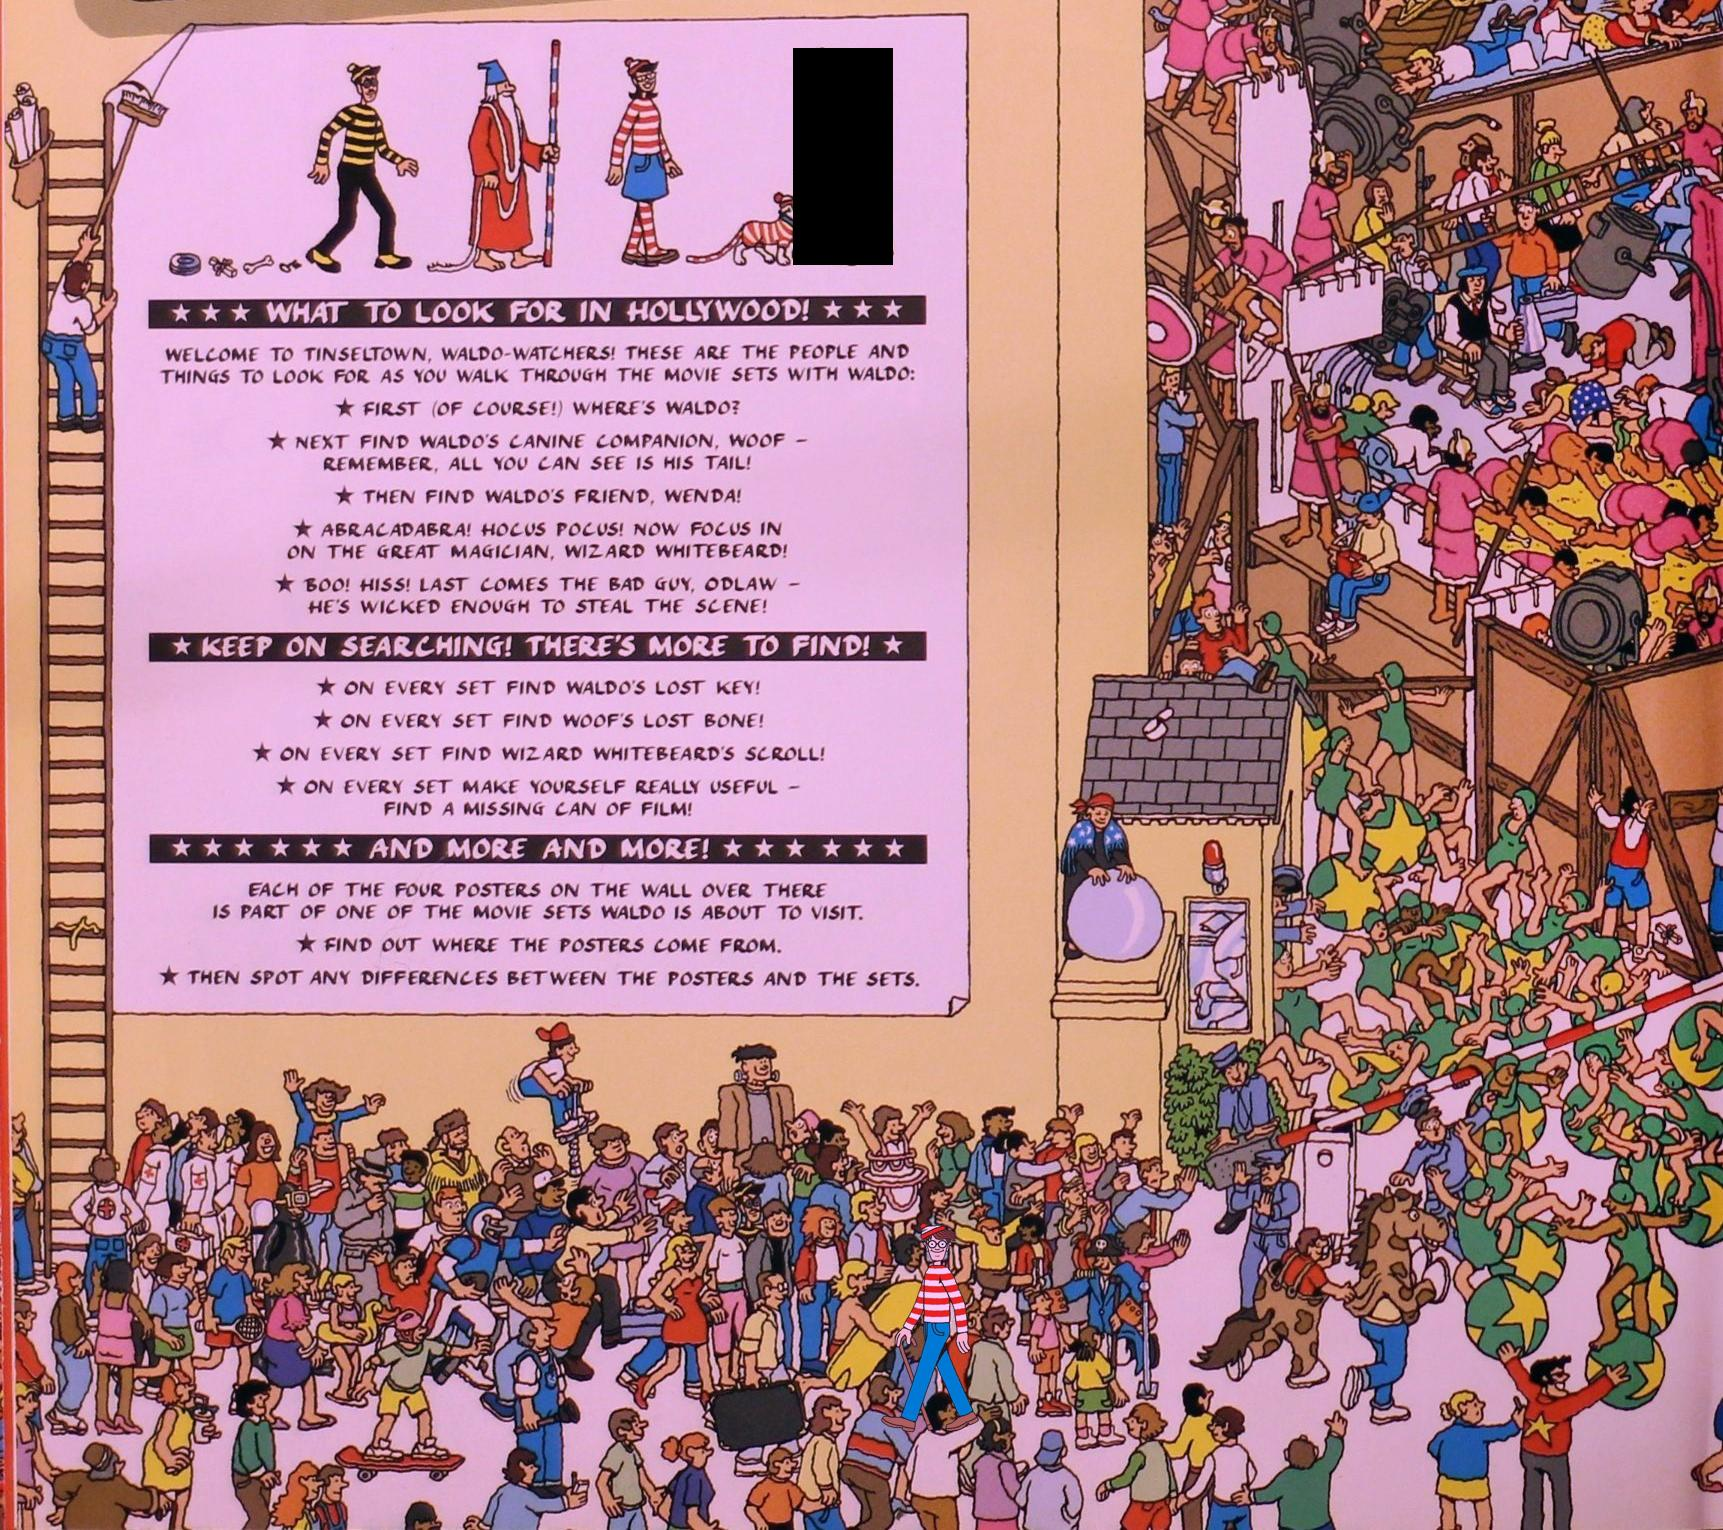waldos: (881, 1221, 980, 1438)
